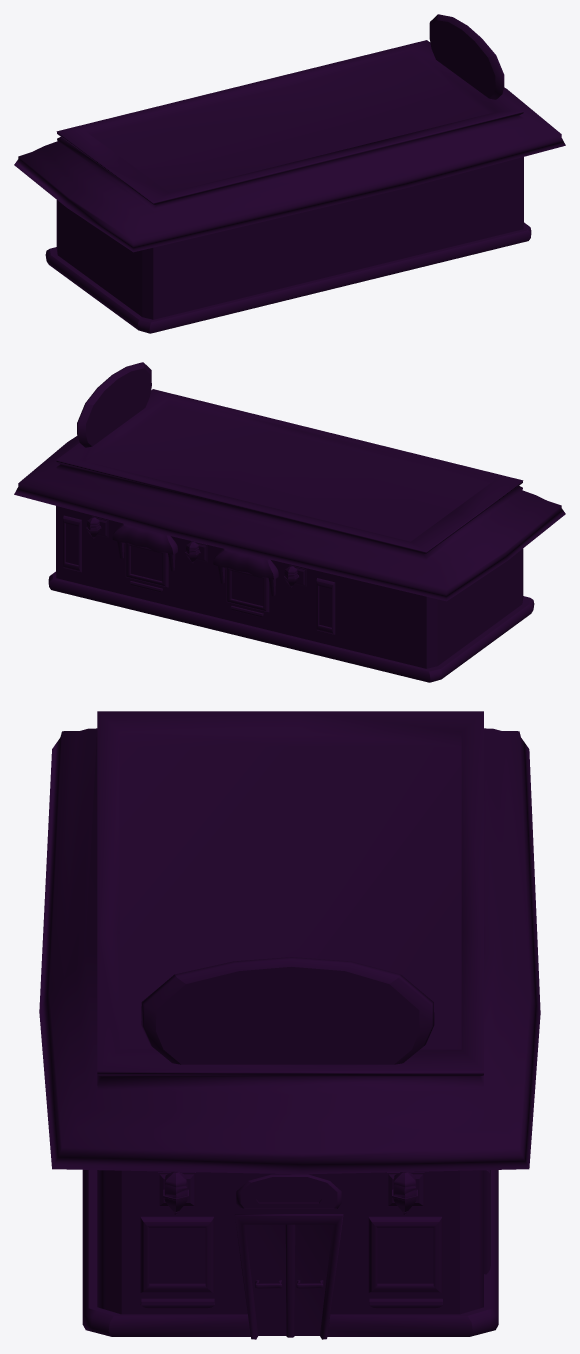
The model's file is Tiendita.fbx.
3 renders of one model, top to bottom at view 1: azimuth 30°, elevation 25°; view 2: azimuth 150°, elevation 25°; view 3: azimuth 270°, elevation 25°, orthographic. The views are drawn at different scales.
Parts seen in each view (by area): view 1: Techo, Base1, Letrero; view 2: Techo, Base1, Letrero, Ventana_corta_1, Ventana_corta_4, Toldo_2, Toldo_1, Ventana_larga_2, Ventana_larga_1, Lampara4, Lampara2, Lampara3; view 3: Techo, Base1, Letrero, Puerta, Ventana_corta_2, Ventana_Corta_2, Arriba, Lampara5, Lampara, Relieve_2, Relieves.
Boxes of the visible parts, x1,y1,x2,y2 form: Techo: [14, 40, 565, 252]; Base1: [45, 157, 531, 333]; Letrero: [429, 14, 504, 99]; Techo: [14, 389, 565, 601]; Base1: [48, 506, 534, 682]; Letrero: [77, 362, 151, 447]; Ventana_corta_1: [125, 543, 168, 587]; Ventana_corta_4: [226, 567, 269, 612]; Toldo_2: [213, 549, 278, 596]; Toldo_1: [112, 523, 177, 571]; Ventana_larga_2: [316, 578, 335, 634]; Ventana_larga_1: [63, 515, 81, 572]; Lampara4: [284, 564, 306, 587]; Lampara2: [86, 516, 108, 538]; Lampara3: [185, 541, 207, 563]; Techo: [39, 711, 540, 1174]; Base1: [82, 1170, 498, 1336]; Letrero: [141, 957, 434, 1064]; Puerta: [234, 1214, 343, 1339]; Ventana_corta_2: [368, 1216, 442, 1292]; Ventana_Corta_2: [140, 1216, 214, 1292]; Arriba: [236, 1174, 341, 1208]; Lampara5: [158, 1171, 195, 1214]; Lampara: [387, 1172, 424, 1214]; Relieve_2: [140, 1298, 214, 1308]; Relieves: [369, 1298, 442, 1308].
Bounding box in the file's own units: 1716 × 673 × 843.
